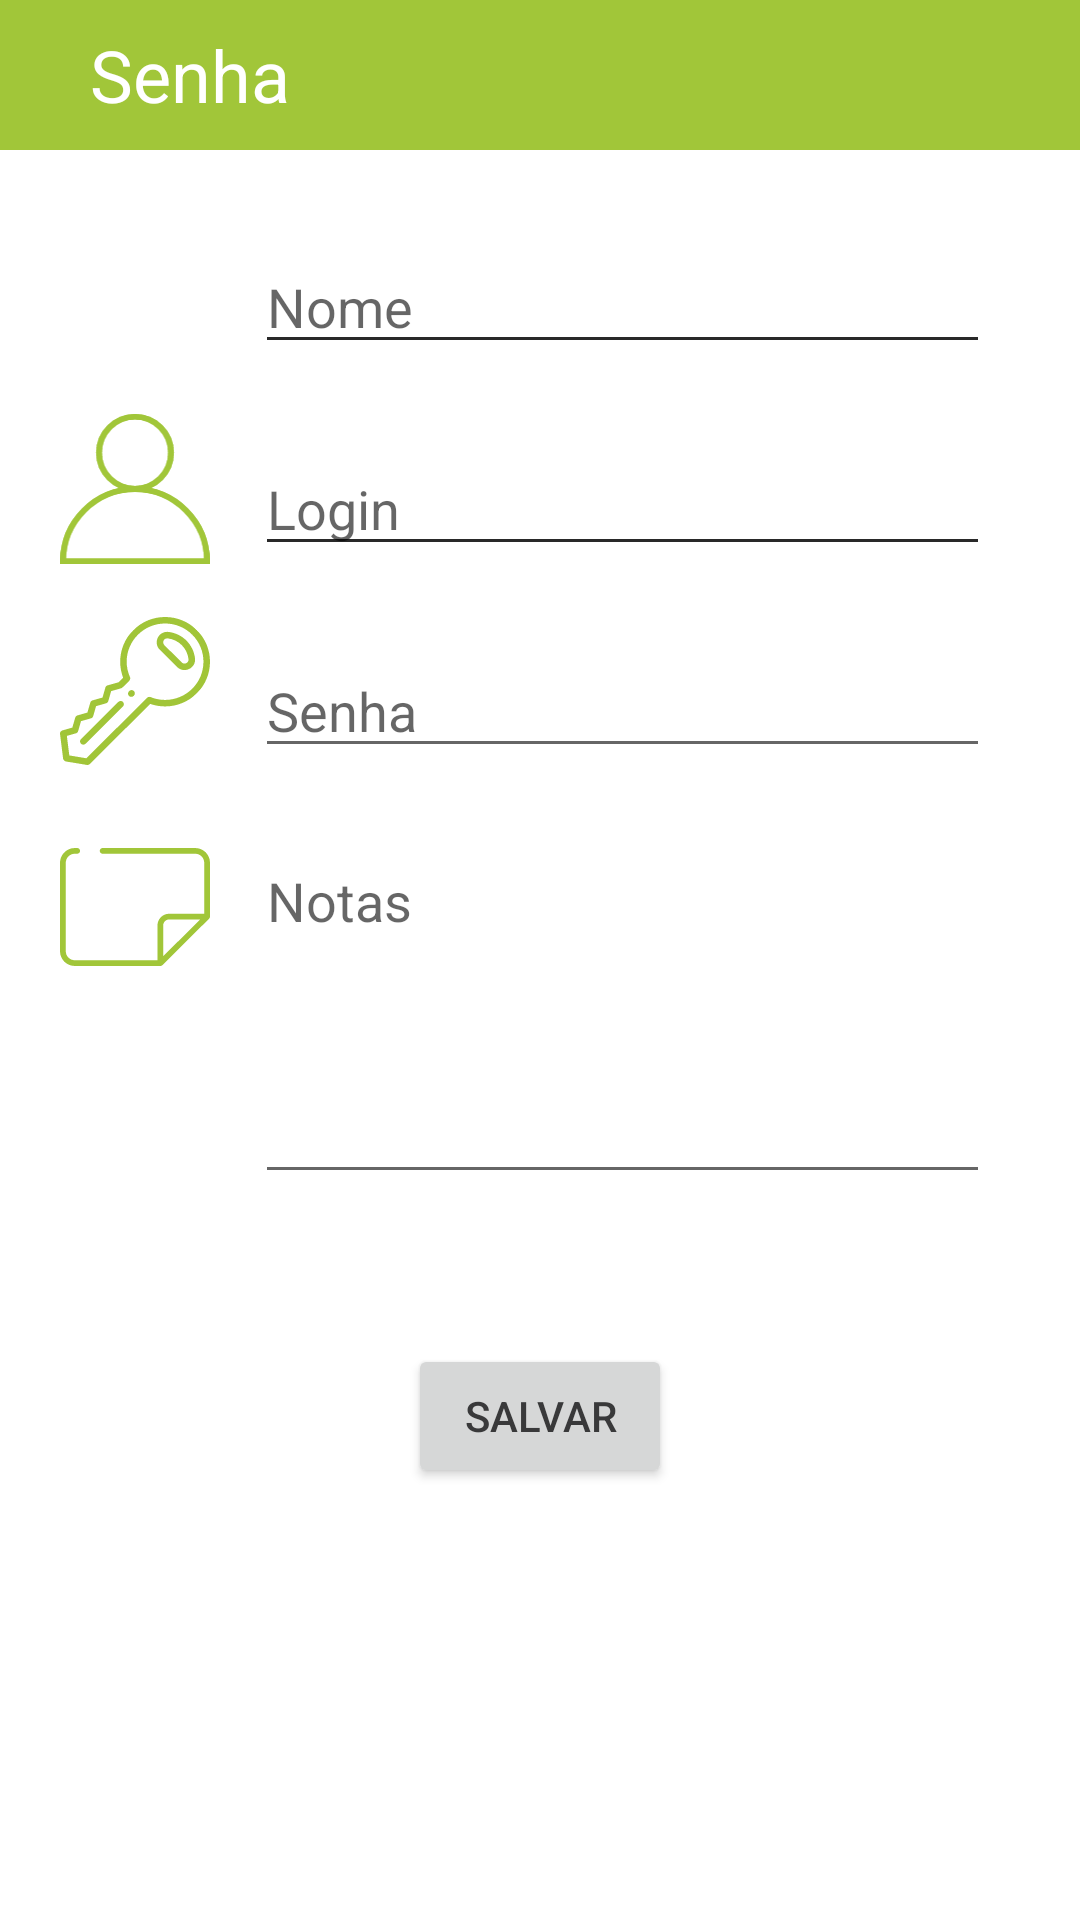

Screen size 1080px x 1920px. Icon name, then its box in pixels as (x1, y1, x2, y2):
add key: (60, 617, 210, 765)
add notes: (60, 848, 210, 966)
